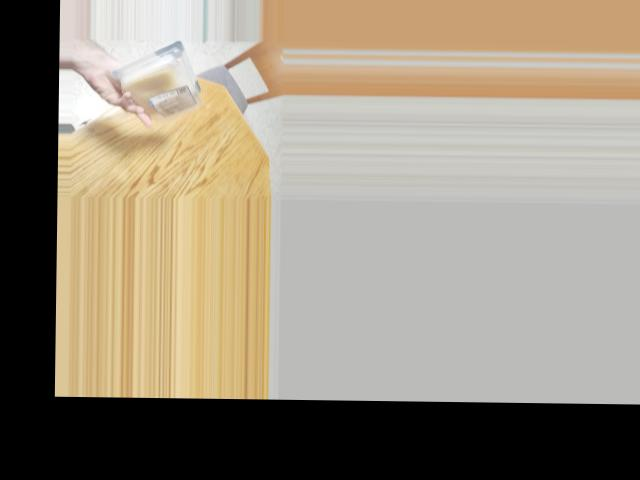cheese: (118, 52, 202, 112)
